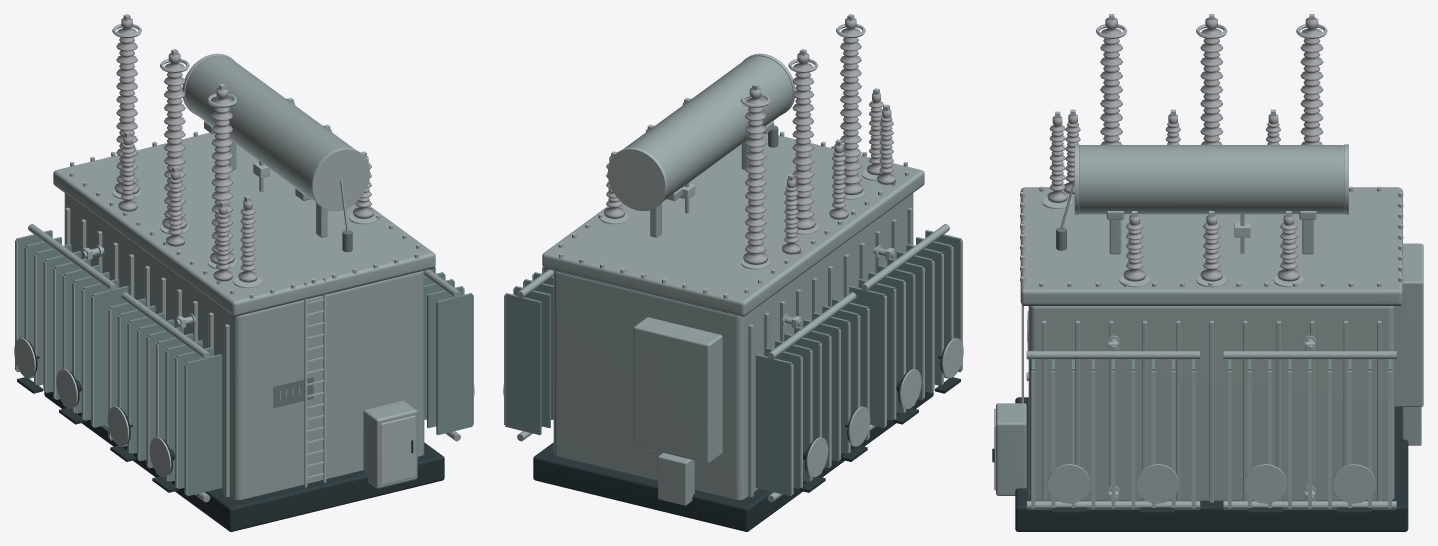
Rendered from campus-transformer.glb.
3 views of the same model, side by side, from view 1: azimuth 30°, elevation 25°; view 2: azimuth 150°, elevation 25°; view 3: azimuth 270°, elevation 25° (orthographic). The views are drawn at different scales.
Visible parts, largest first — view 1: MAIN_TRANSFORMER Transformer enamel gray, MAIN_TRANSFORMER Radiator coated steel, MAIN_TRANSFORMER Machined zinc hardware, MAIN_TRANSFORMER Grey composite bushing, MAIN_TRANSFORMER Deep mechanical recess, MAIN_TRANSFORMER Transformer etched nameplate; view 2: MAIN_TRANSFORMER Transformer enamel gray, MAIN_TRANSFORMER Radiator coated steel, MAIN_TRANSFORMER Machined zinc hardware, MAIN_TRANSFORMER Grey composite bushing, MAIN_TRANSFORMER Deep mechanical recess; view 3: MAIN_TRANSFORMER Transformer enamel gray, MAIN_TRANSFORMER Machined zinc hardware, MAIN_TRANSFORMER Grey composite bushing, MAIN_TRANSFORMER Deep mechanical recess, MAIN_TRANSFORMER Radiator coated steel.
Boxes of the visible parts, x1=… form: MAIN_TRANSFORMER Transformer enamel gray: x1=28, y1=56, x2=460, y2=502; MAIN_TRANSFORMER Radiator coated steel: x1=16, y1=230, x2=472, y2=496; MAIN_TRANSFORMER Machined zinc hardware: x1=14, y1=14, x2=474, y2=494; MAIN_TRANSFORMER Grey composite bushing: x1=114, y1=18, x2=373, y2=282; MAIN_TRANSFORMER Deep mechanical recess: x1=17, y1=185, x2=444, y2=531; MAIN_TRANSFORMER Transformer etched nameplate: x1=273, y1=230, x2=352, y2=407; MAIN_TRANSFORMER Transformer enamel gray: x1=517, y1=56, x2=949, y2=505; MAIN_TRANSFORMER Radiator coated steel: x1=505, y1=230, x2=961, y2=496; MAIN_TRANSFORMER Machined zinc hardware: x1=503, y1=14, x2=963, y2=494; MAIN_TRANSFORMER Grey composite bushing: x1=604, y1=18, x2=895, y2=264; MAIN_TRANSFORMER Deep mechanical recess: x1=533, y1=185, x2=960, y2=531; MAIN_TRANSFORMER Transformer enamel gray: x1=996, y1=145, x2=1423, y2=509; MAIN_TRANSFORMER Machined zinc hardware: x1=994, y1=14, x2=1403, y2=507; MAIN_TRANSFORMER Grey composite bushing: x1=1047, y1=17, x2=1323, y2=281; MAIN_TRANSFORMER Deep mechanical recess: x1=992, y1=305, x2=1408, y2=531; MAIN_TRANSFORMER Radiator coated steel: x1=1031, y1=359, x2=1391, y2=508.
Bounding box in the file's own units: 9.61 × 12.23 × 11.2.
